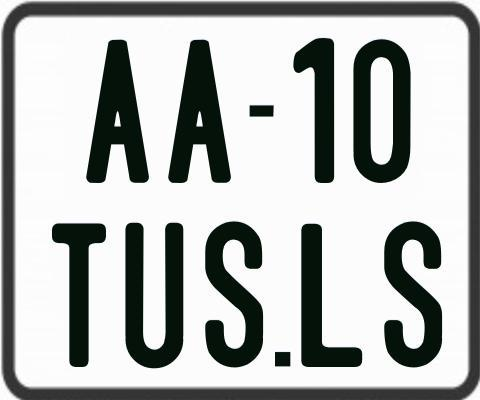0: (353, 38, 414, 182)
1: (291, 35, 338, 185)
A: (167, 38, 236, 183), (83, 39, 150, 186)
L: (298, 222, 363, 365)
S: (381, 221, 445, 370), (205, 218, 267, 368)
T: (50, 221, 106, 366)
U: (122, 222, 181, 373)
